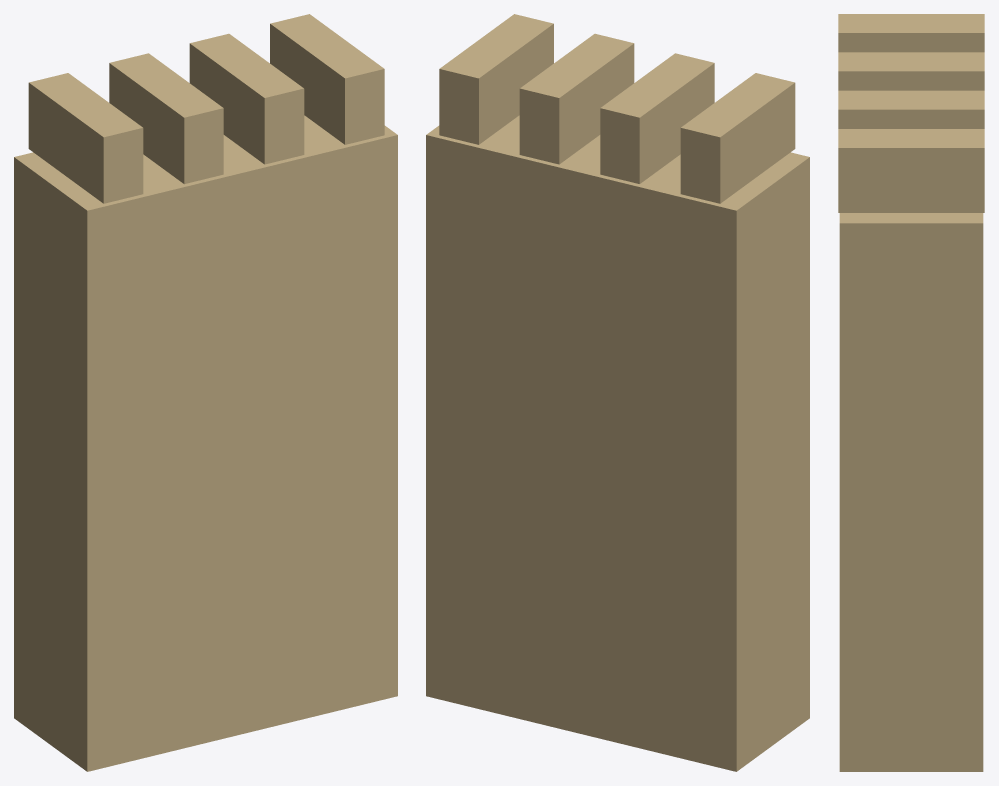
Rendered from b-wall-ayyubid.glb.
The picture shows the model from 3 angles, left to right: view 1: azimuth 30°, elevation 25°; view 2: azimuth 150°, elevation 25°; view 3: azimuth 270°, elevation 25°; orthographic projection. The views are drawn at different scales.
Parts seen in each view (by area): view 1: Structure; view 2: Structure; view 3: Structure.
Part boxes in pixels (x1=…): Structure: x1=14, y1=14, x2=397, y2=771; Structure: x1=426, y1=14, x2=809, y2=771; Structure: x1=838, y1=14, x2=984, y2=771.
Bounding box in the file's own units: 2.2 × 4.28 × 0.92.
